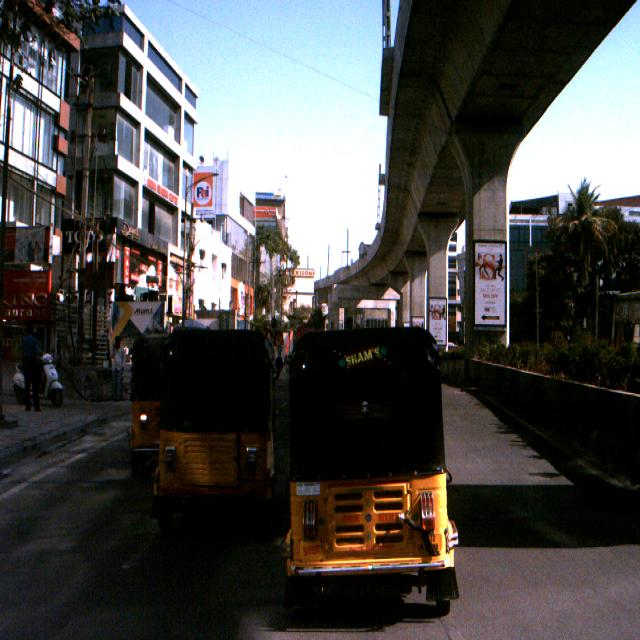auto ahead at: (282, 319, 468, 628), (153, 318, 271, 508)
